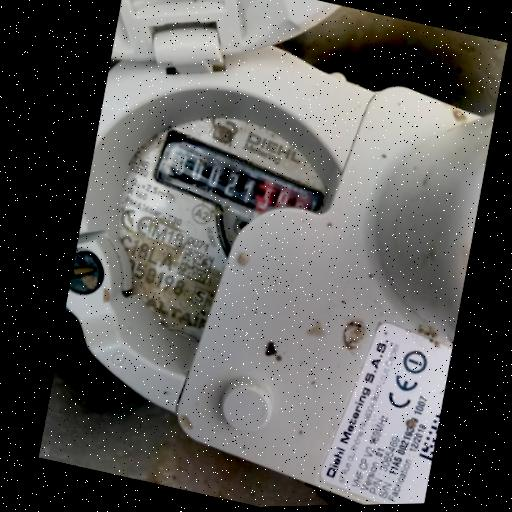0: (181, 149, 213, 192), (199, 156, 230, 197), (166, 144, 196, 184)
1: (232, 168, 264, 211)
2: (215, 162, 249, 204)
5: (251, 176, 282, 218)
9: (271, 184, 298, 216)
border_water_meter_number: (148, 131, 329, 242)
